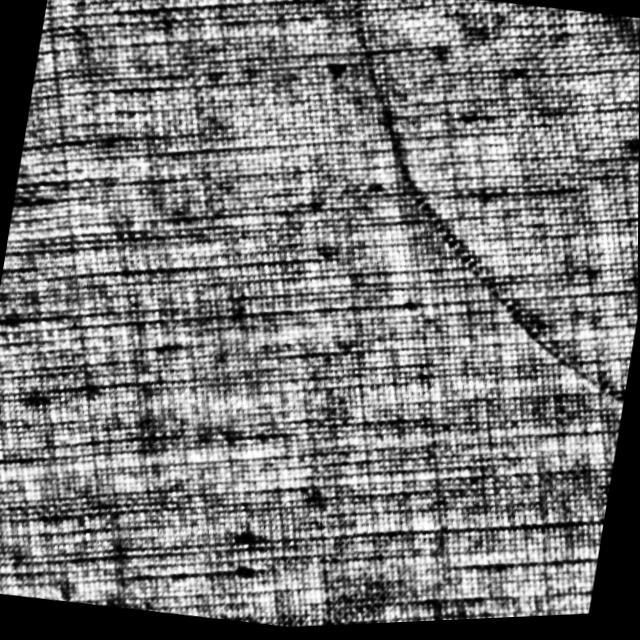Stitch: (280, 0, 640, 445)
